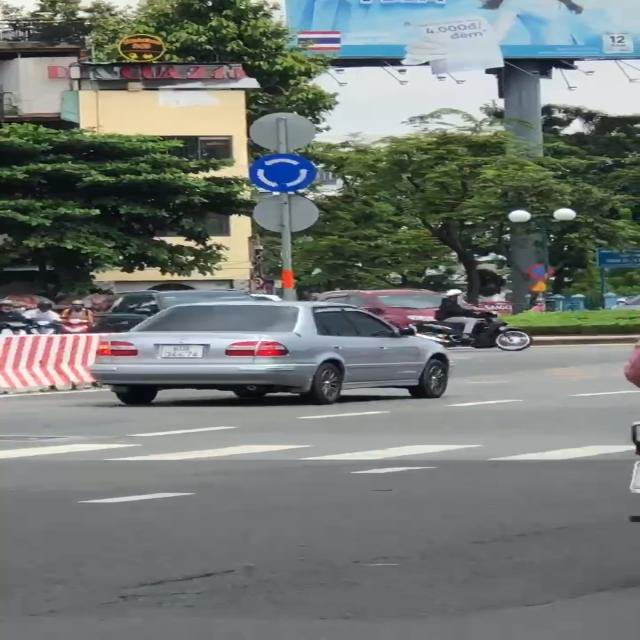Bien bao noi giao nhau chay theo vong xuyen: (247, 151, 321, 194)
